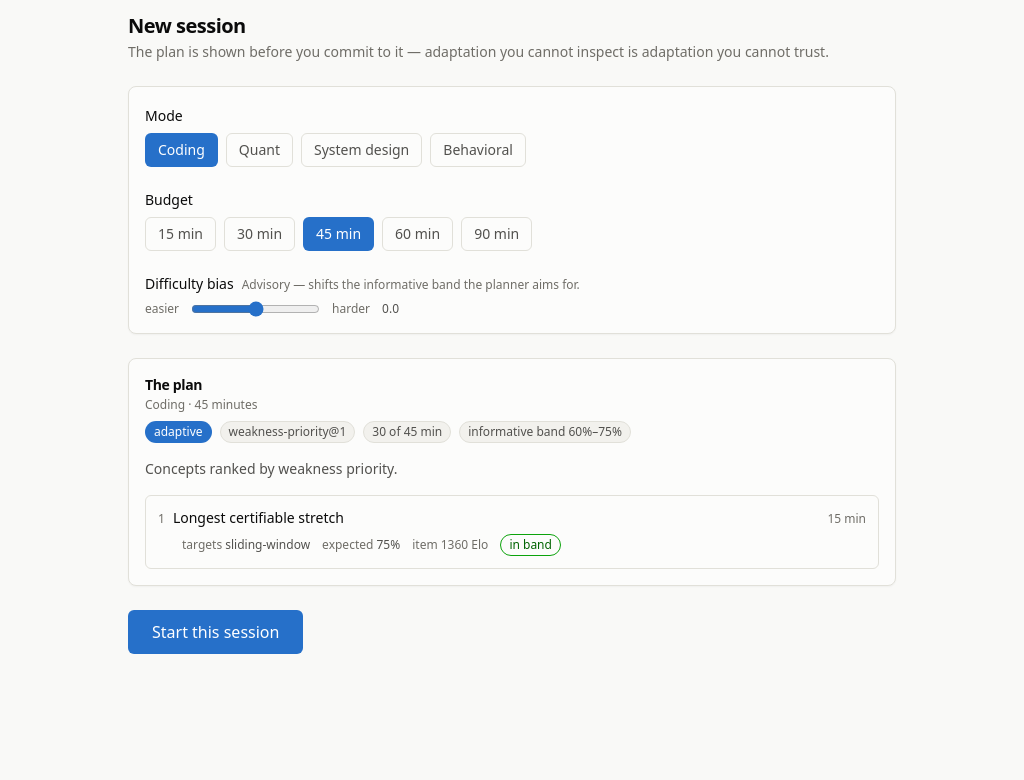
Test case: /session/new › admits the preview does not include the difficulty bias
The image size is (1024, 780).
Expected: the text "Longest certifiable stretch" is shown, [173, 508, 344, 527]
Set the slider named "Difficulty bias" to "1" at (312, 309), box [191, 301, 320, 317]
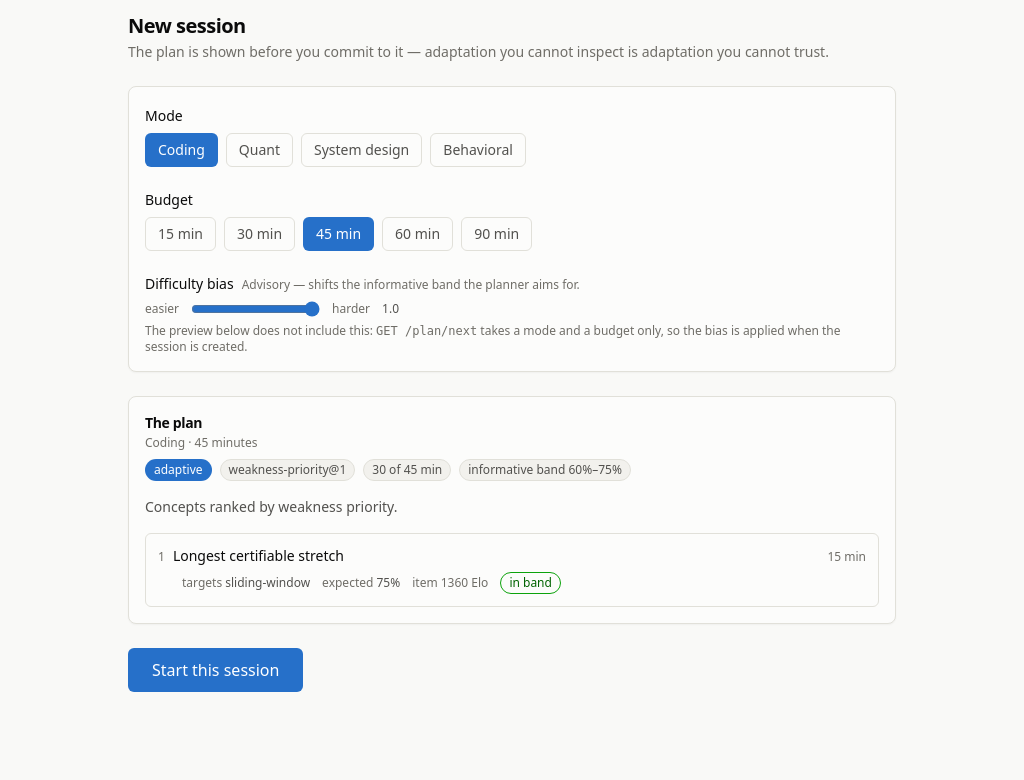
Expected: the text "does not include this" is shown, [145, 322, 376, 339]
